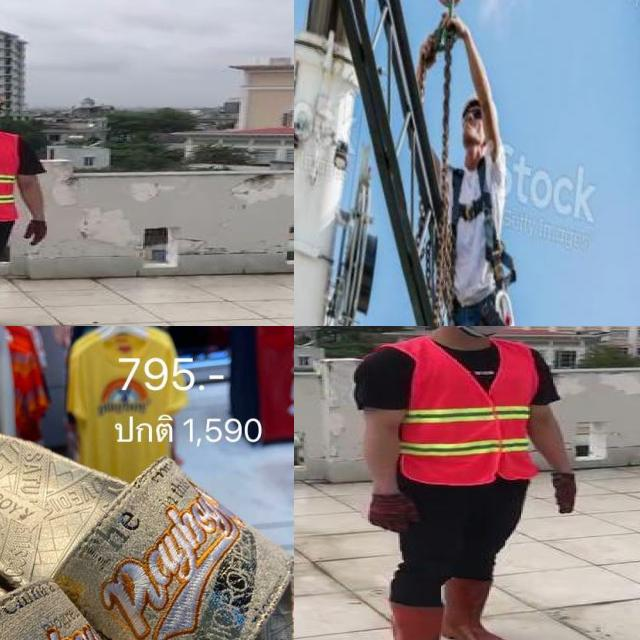Harness: (452, 159, 509, 286)
Sandals: (0, 411, 294, 640)
boots: (442, 578, 512, 640), (387, 598, 487, 640)
face_mask: (451, 326, 522, 337)
hand_glove: (366, 492, 422, 532), (550, 472, 576, 517), (26, 221, 48, 246)
person: (346, 326, 584, 640), (0, 81, 51, 326)
vest: (397, 339, 537, 484), (0, 128, 20, 223)
